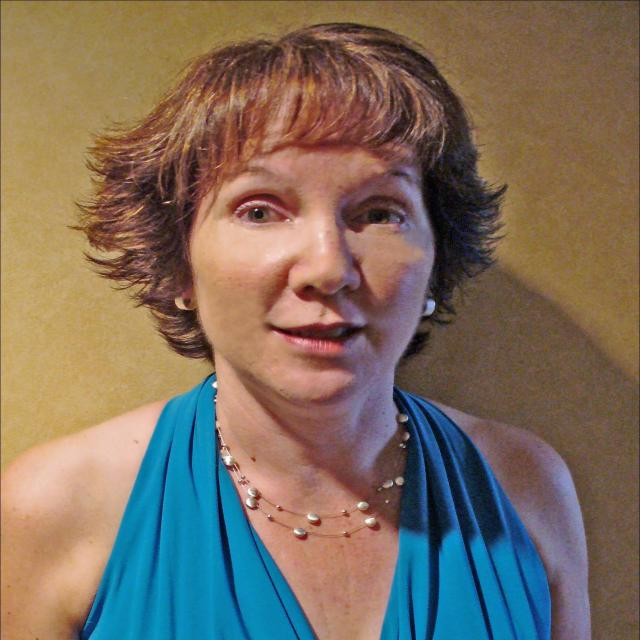no-glass: (231, 196, 410, 230)
